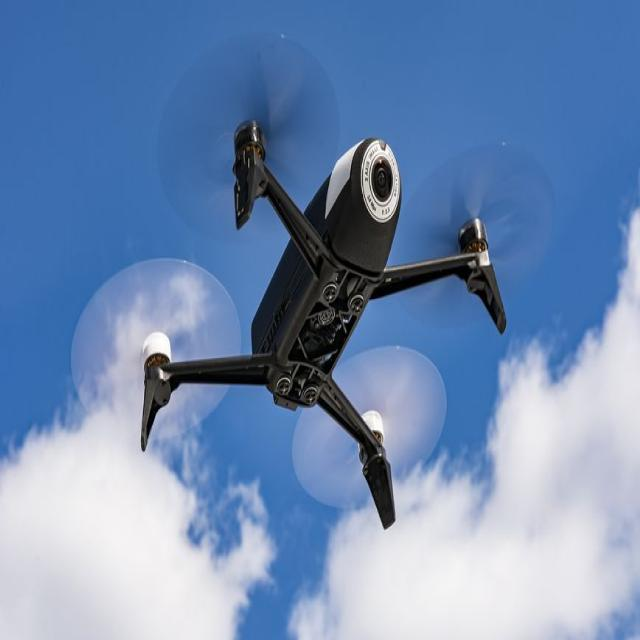drone: (98, 108, 525, 532)
